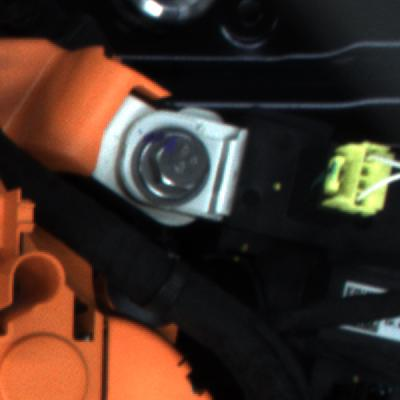nut_b: (140, 113, 214, 206)
